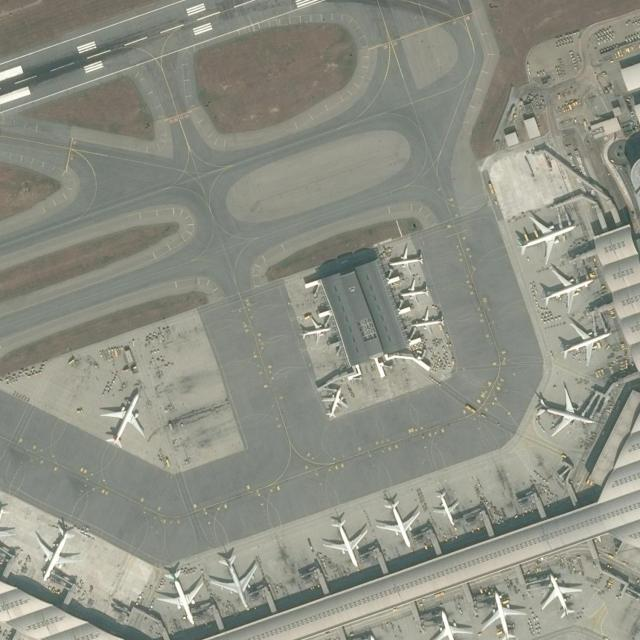Aircraft: (532, 381, 598, 438), (207, 550, 263, 610), (516, 211, 580, 263), (151, 567, 203, 627), (557, 315, 615, 365), (99, 389, 147, 449), (35, 521, 81, 582), (537, 268, 597, 314), (478, 588, 527, 640), (319, 516, 367, 567), (376, 497, 421, 550), (540, 571, 586, 621), (423, 606, 472, 640), (430, 487, 463, 527), (319, 383, 351, 423), (386, 243, 426, 275), (397, 279, 435, 308), (410, 310, 450, 337), (299, 314, 331, 344), (0, 497, 14, 554)
